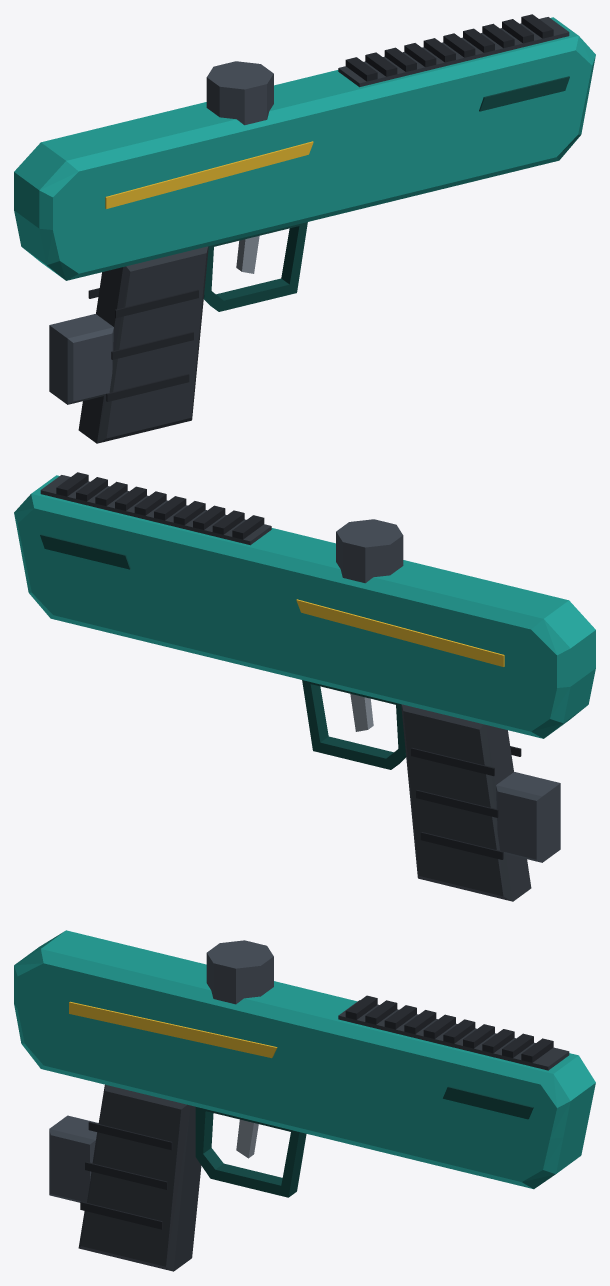
File: vanta.glb
3 renders of one model, top to bottom at view 1: azimuth 30°, elevation 25°; view 2: azimuth 150°, elevation 25°; view 3: azimuth 330°, elevation 25°, orthographic.
Visible parts, largest first — view 1: vanta_body; view 2: vanta_body; view 3: vanta_body.
Boxes of the visible parts, x1,y1,x2,y2 form: vanta_body: (14, 14, 595, 443); vanta_body: (14, 472, 595, 901); vanta_body: (14, 930, 595, 1271).
Size of the model in its own units: 0.456 by 0.254 by 0.0527.
